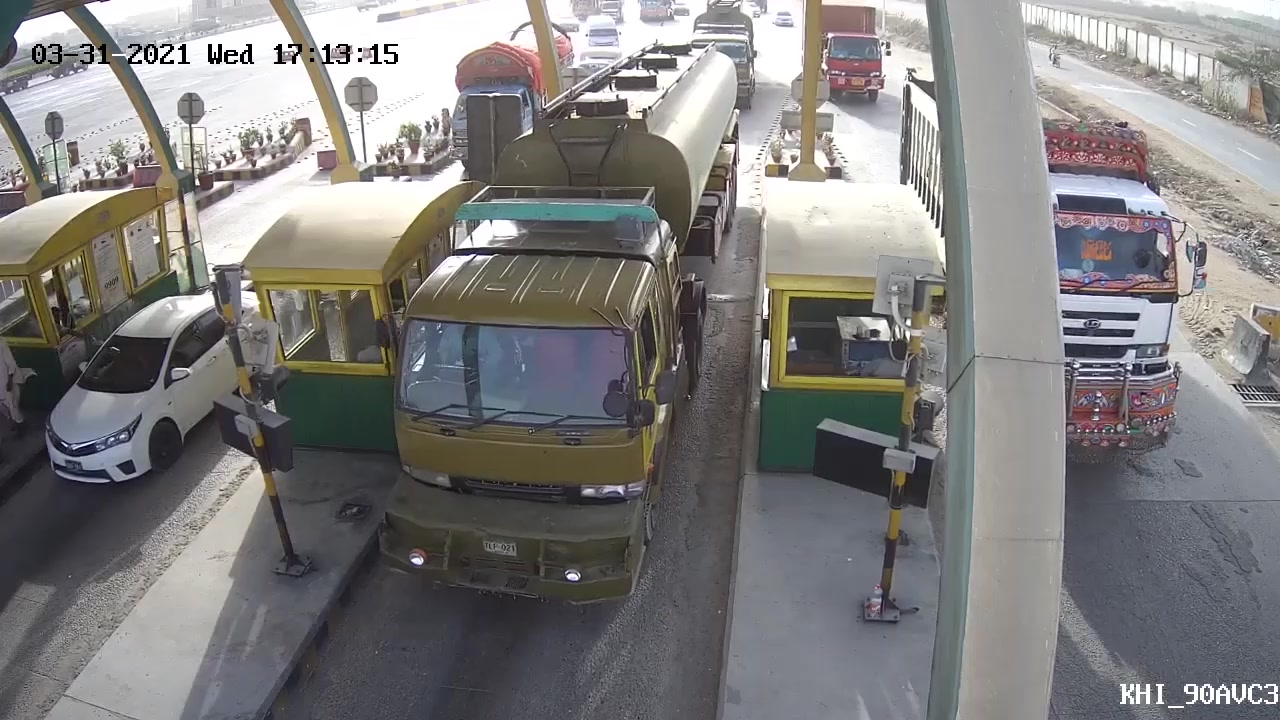F6: (366, 101, 699, 634)
